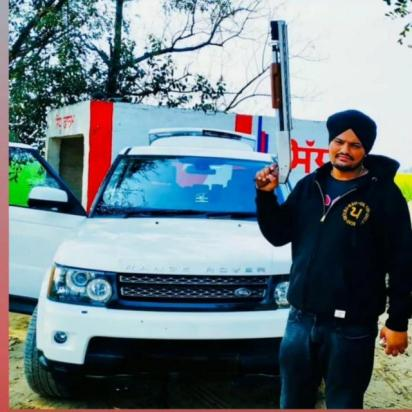Gun: (252, 19, 295, 192)
